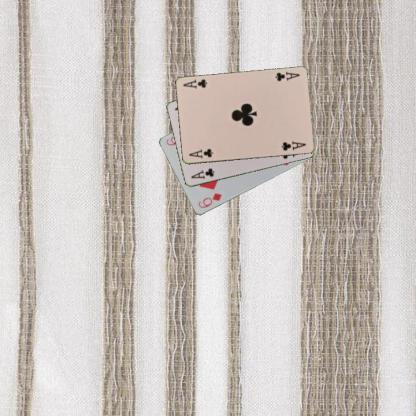6d: (195, 191, 223, 210)
Ac: (188, 166, 216, 180), (186, 146, 214, 160), (273, 68, 301, 82)
